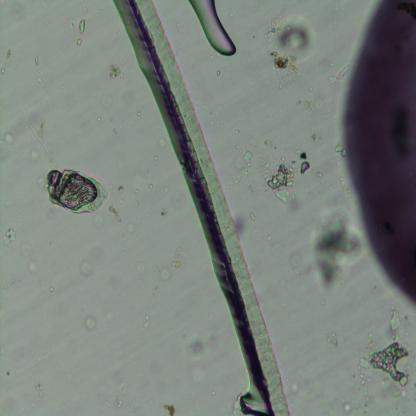Air bubble: (188, 0, 236, 58)
Background material: (308, 205, 364, 295), (40, 165, 111, 216), (357, 336, 411, 392), (268, 16, 315, 79), (263, 150, 312, 202), (26, 117, 51, 166), (298, 93, 334, 120), (109, 181, 130, 223), (20, 233, 40, 276), (112, 356, 129, 406), (186, 332, 220, 355), (131, 168, 156, 198), (324, 59, 349, 88), (237, 148, 255, 182), (28, 52, 44, 82), (286, 257, 304, 283), (0, 46, 16, 74), (122, 215, 140, 239), (92, 244, 110, 267), (108, 59, 126, 81), (96, 92, 115, 111), (234, 213, 250, 235), (169, 243, 183, 268), (325, 327, 339, 352), (287, 374, 302, 397), (387, 308, 402, 331), (80, 260, 95, 280), (2, 228, 18, 246), (140, 315, 154, 334), (341, 388, 352, 412), (105, 115, 119, 131), (210, 64, 224, 79), (160, 265, 171, 284), (334, 142, 346, 159), (111, 272, 121, 292), (4, 130, 15, 148), (156, 135, 167, 152), (136, 258, 146, 276), (158, 202, 170, 216), (85, 316, 97, 330), (164, 402, 176, 414), (78, 18, 85, 35), (249, 211, 258, 222), (47, 281, 55, 293), (310, 138, 321, 146), (74, 38, 82, 48)
Hair: (129, 0, 290, 415)
Pen: (334, 0, 416, 308)
